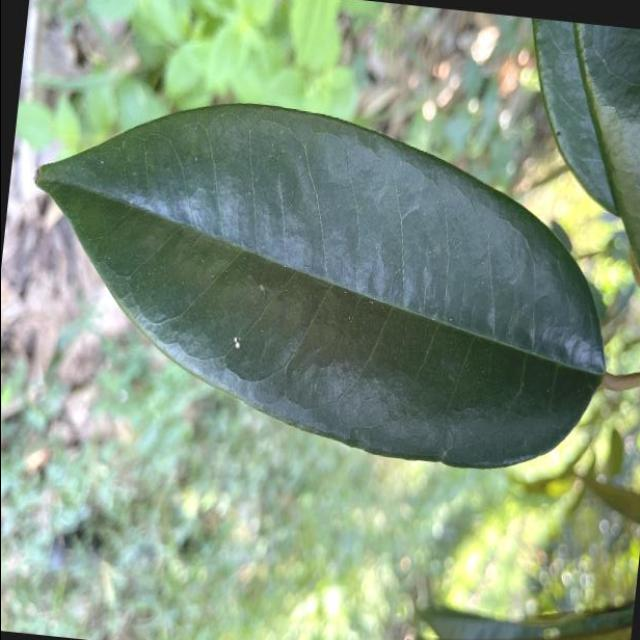No Disease: (2, 68, 640, 490)
